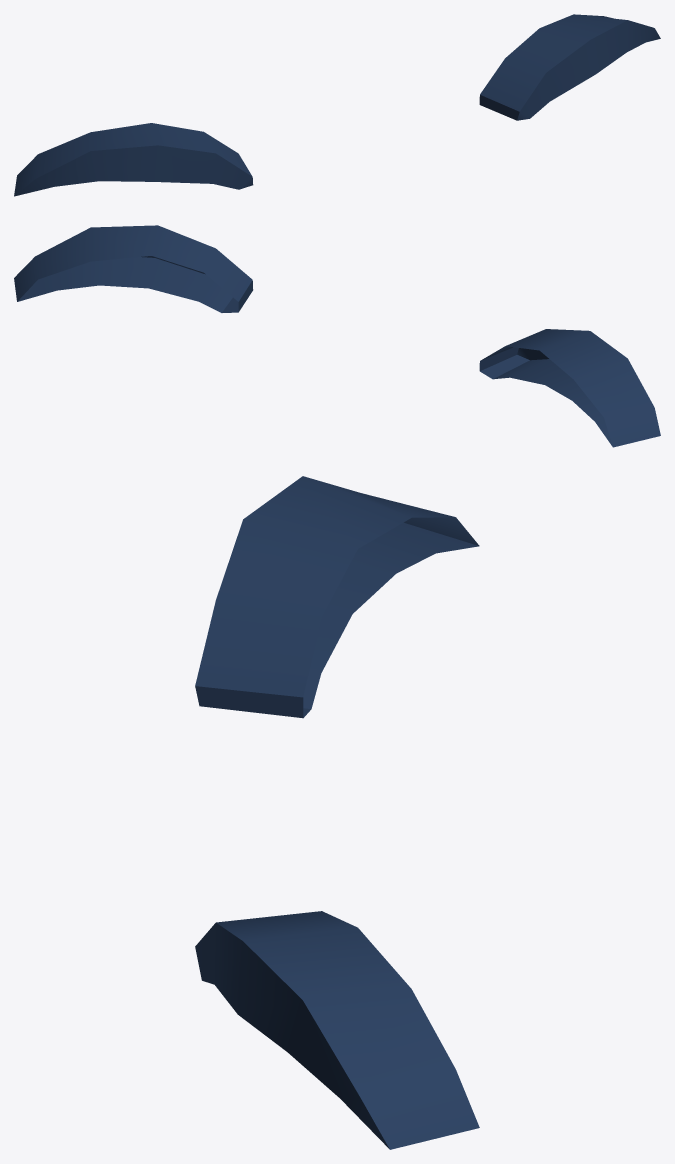
The model's file is Brow_Blue_1.fbx.
The picture shows the model from 3 angles, top to bottom: view 1: azimuth 30°, elevation 25°; view 2: azimuth 150°, elevation 25°; view 3: azimuth 270°, elevation 25°; orthographic projection. The views are drawn at different scales.
Parts seen in each view (by area): view 1: Brow_Blue_1; view 2: Brow_Blue_1; view 3: Brow_Blue_1.
Part boxes in pixels (bbox=[...]): Brow_Blue_1: bbox=[14, 14, 660, 196]; Brow_Blue_1: bbox=[14, 225, 660, 447]; Brow_Blue_1: bbox=[195, 476, 479, 1149].
Size of the model in its own units: 33.06 by 2.71 by 6.3.
